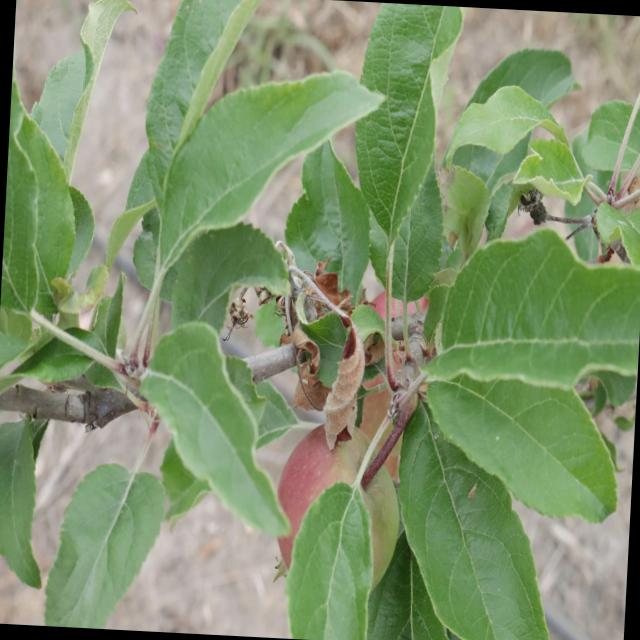-FireBlight-: (275, 264, 363, 445)
